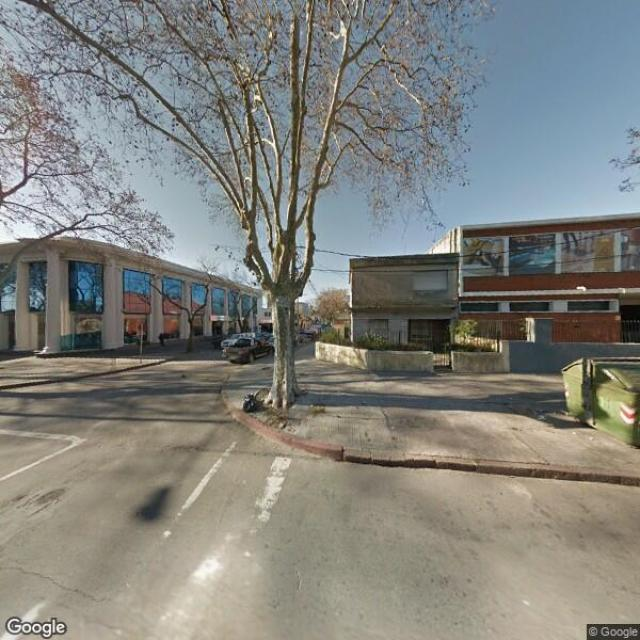garbage container: (550, 348, 640, 458)
